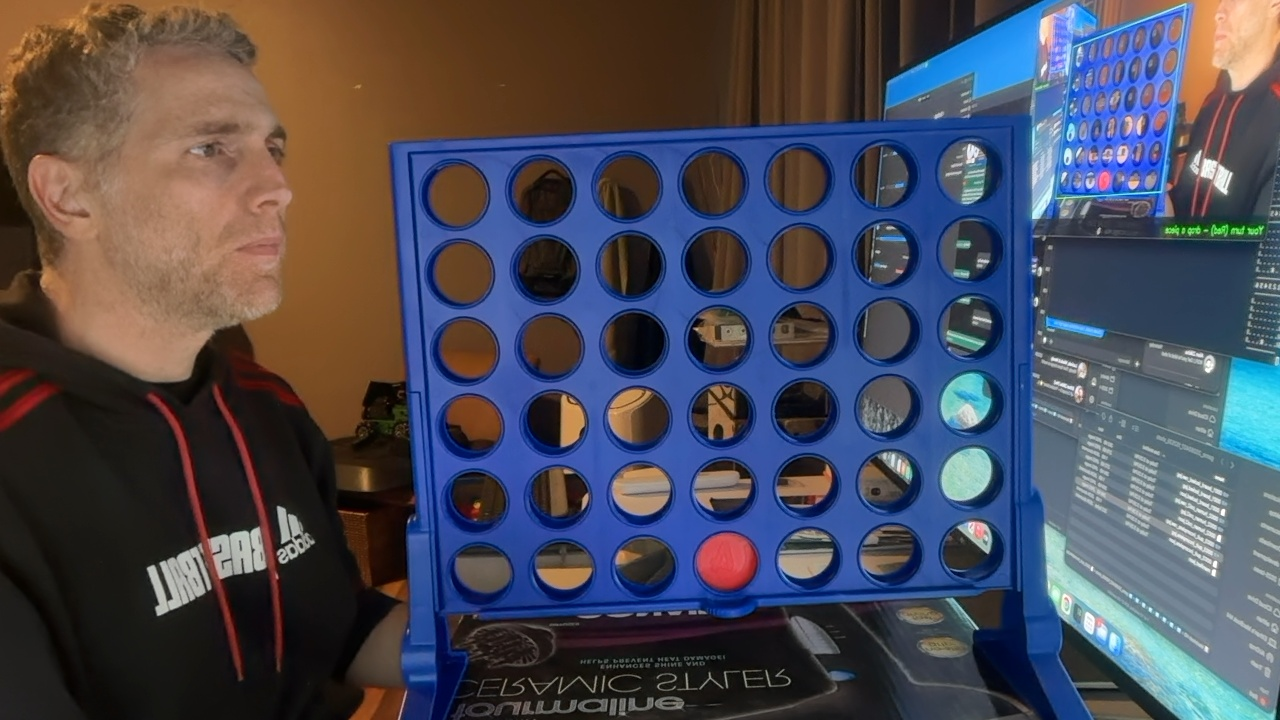red piece: (695, 532, 758, 592)
